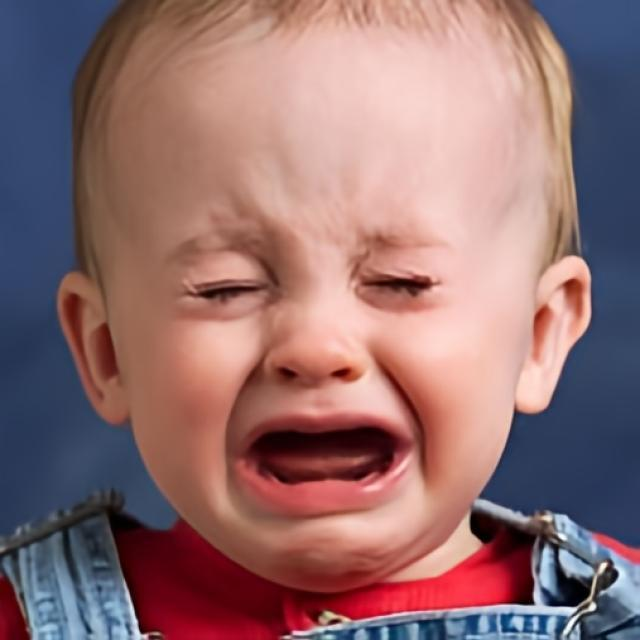sad: (130, 59, 516, 591)
